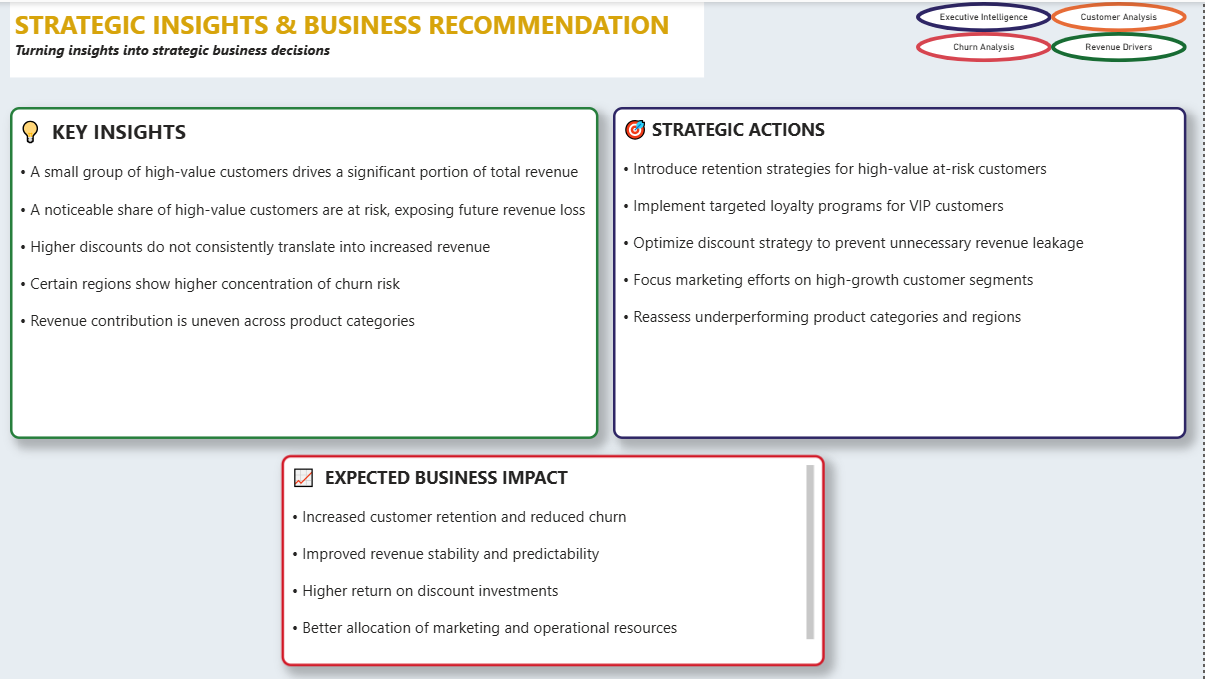

Layout of this report page (visuals, bound fields, positions):
{"tool":"powerbi","page":{"name":"Strategic Insights","canvas":[1280,720],"ordinal":4},"visuals":[{"type":"textbox","box":[16,0,736,80],"z":0},{"type":"textbox","box":[16,112,624,352],"z":1000},{"type":"textbox","box":[656,112,608,352],"z":2000},{"type":"textbox","box":[304,480,576,224],"z":3000},{"type":"actionButton","box":[976,0,144,32],"z":4000},{"type":"actionButton","box":[1120,0,144,32],"z":5000},{"type":"actionButton","box":[976,32,144,32],"z":6000},{"type":"actionButton","box":[1120,32,144,32],"z":7000}]}

Visuals, with their boxes in screenshot pixels (x1, y1, x2, y2), scaled from the page's 1280x720 canvas onto the 1205x679 screenshot:
textbox: rect(15, 0, 708, 75)
textbox: rect(15, 106, 602, 438)
textbox: rect(618, 106, 1190, 438)
textbox: rect(286, 453, 828, 664)
actionButton: rect(919, 0, 1054, 30)
actionButton: rect(1054, 0, 1190, 30)
actionButton: rect(919, 30, 1054, 60)
actionButton: rect(1054, 30, 1190, 60)
